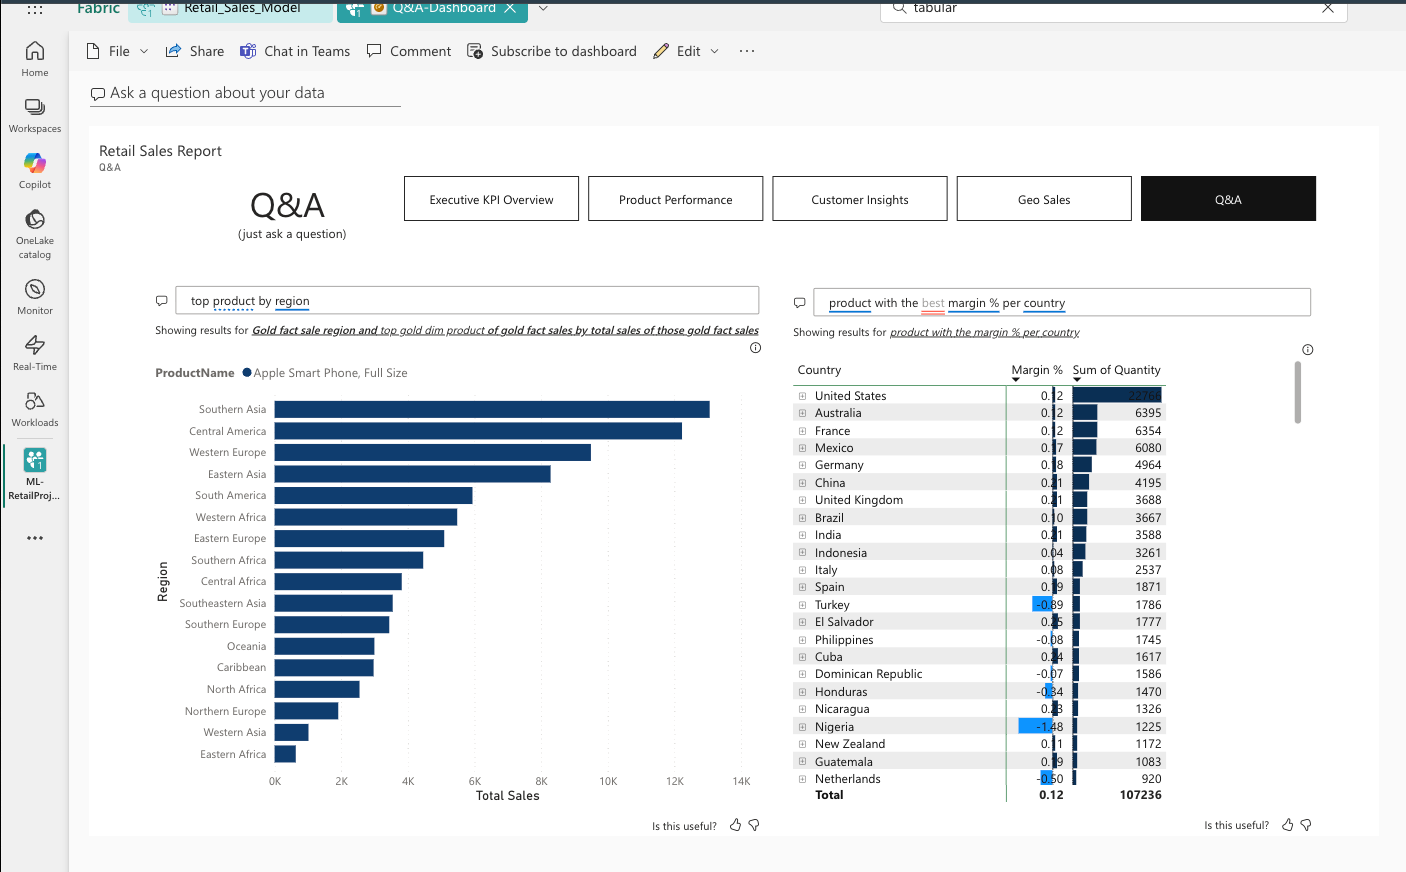

This screenshot's page, from the dashboard's own definition file:
{"tool":"powerbi","page":{"name":"Q&A","canvas":[1280,720],"ordinal":4},"visuals":[{"type":"qnaVisual","box":[0,94.4,676.9,625.6],"z":0},{"type":"qnaVisual","box":[696.4,96.8,583.3,623.2],"z":1000},{"type":"textbox","box":[0,0,316.5,96.8],"z":2000},{"type":"pageNavigator","box":[279.9,0,999.9,49.6],"z":3000}]}

Visuals, with their boxes on the page's 1280x720 design canvas (x1, y1, x2, y2). These are canvas units, not pixel positions in the 1406x872 screenshot, which may show the page scaled, cropped or inside an application window:
qnaVisual: left=0, top=94, right=677, bottom=720
qnaVisual: left=696, top=97, right=1280, bottom=720
textbox: left=0, top=0, right=316, bottom=97
pageNavigator: left=280, top=0, right=1280, bottom=50
